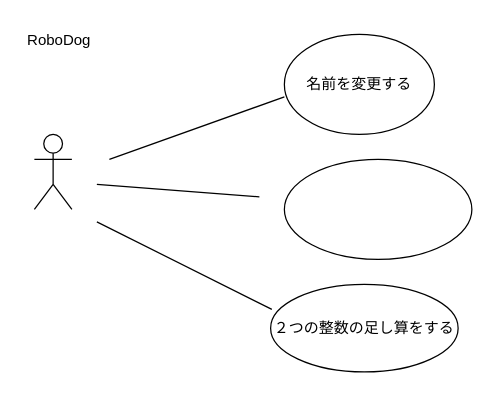
The diagram is 494 pixels wide and 394 high, and some of its shapes have lost their labels. Each missing label, with the centre of its shape:
ユーザー: [52,171]
時刻に応じた挨拶をする: [377,208]
